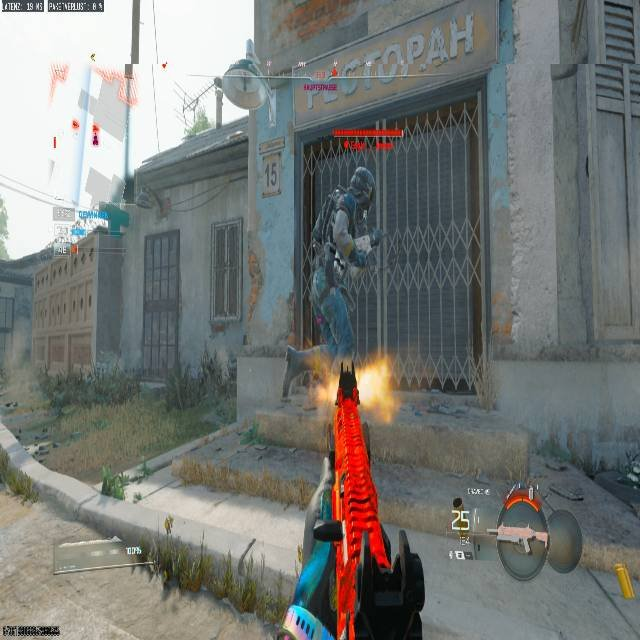head: (348, 166, 375, 202), (350, 154, 368, 179), (349, 167, 370, 188)
player: (331, 167, 377, 270), (448, 495, 469, 535)
